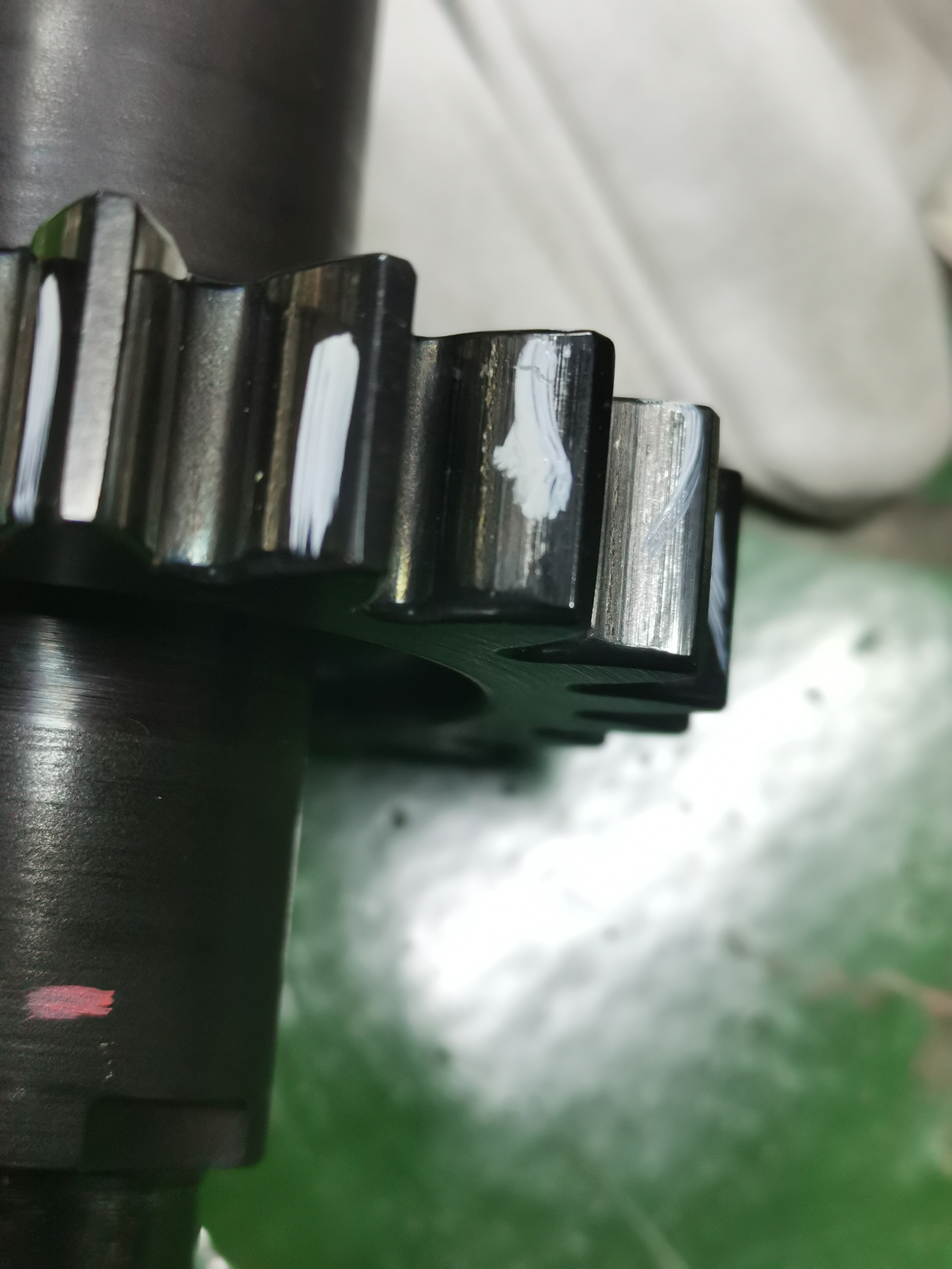Abrasion: (233, 256, 392, 569), (425, 329, 596, 604), (592, 405, 714, 649), (108, 209, 174, 538)
